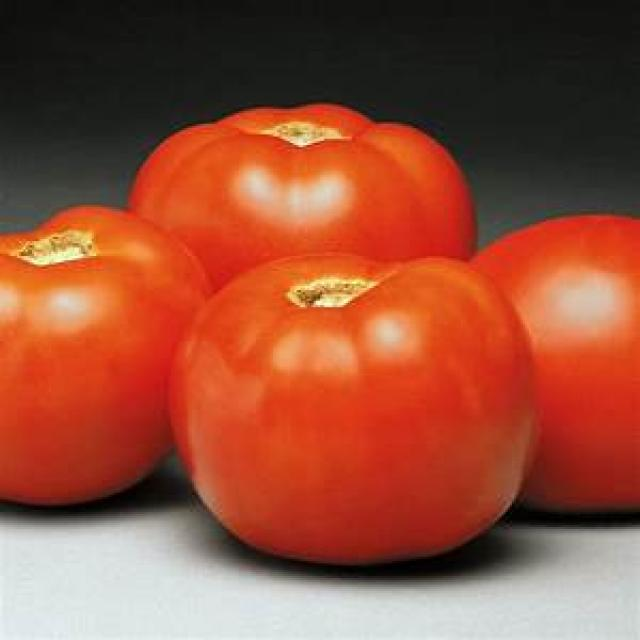Fresh_tomato: (185, 278, 536, 544), (0, 210, 203, 518), (148, 104, 472, 270), (509, 224, 640, 550)
